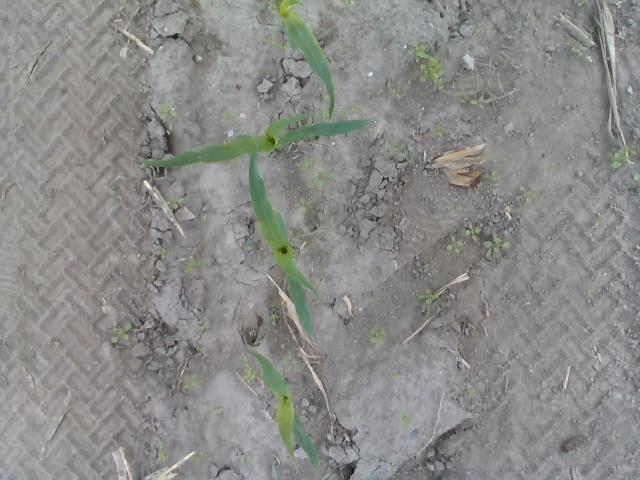Maize: (228, 132, 322, 338), (140, 114, 369, 170), (244, 346, 322, 474), (276, 0, 336, 122)
Weeds: (444, 222, 510, 258), (414, 39, 446, 90), (302, 158, 338, 186), (608, 142, 637, 170), (259, 31, 287, 51), (110, 320, 132, 344), (456, 89, 486, 106), (338, 102, 364, 120), (240, 356, 258, 382), (158, 96, 179, 118), (280, 349, 298, 370), (368, 325, 385, 345), (169, 194, 187, 212), (524, 186, 538, 209), (181, 372, 199, 389), (417, 286, 434, 304), (383, 142, 408, 154), (190, 448, 208, 464), (183, 255, 198, 274), (399, 412, 414, 431), (295, 196, 314, 210), (158, 440, 169, 464), (222, 110, 242, 122), (542, 161, 556, 176), (462, 384, 476, 398), (208, 403, 223, 416), (99, 126, 109, 144), (481, 173, 498, 183), (112, 4, 126, 16), (594, 212, 606, 226), (240, 454, 255, 465), (433, 126, 447, 137), (197, 319, 207, 333), (391, 88, 404, 98), (575, 0, 587, 10), (390, 369, 400, 380), (583, 286, 591, 296), (574, 48, 584, 56), (633, 173, 640, 184), (387, 463, 395, 472), (159, 248, 166, 258), (342, 0, 352, 7)
